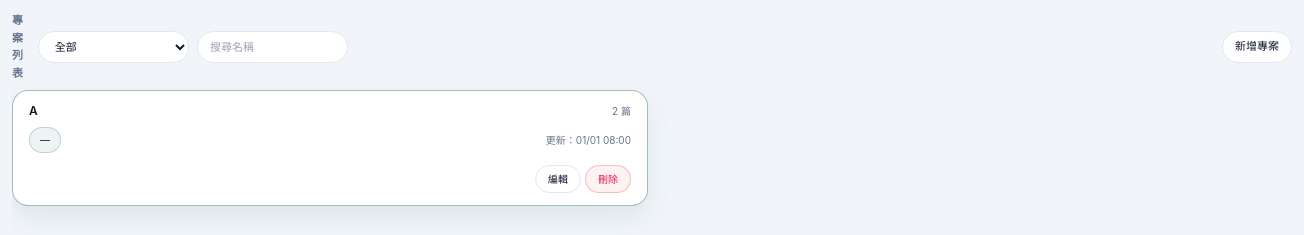
Test: ProjectList CRUD UI › 編輯專案保留選取並更新狀態顯示
The width and height of the screenshot is (1304, 235).
Expected: the text "A" is shown, x1=29 y1=103 x2=38 y2=119
Click the button "編輯" at (558, 179), box x1=535 y1=165 x2=581 y2=193
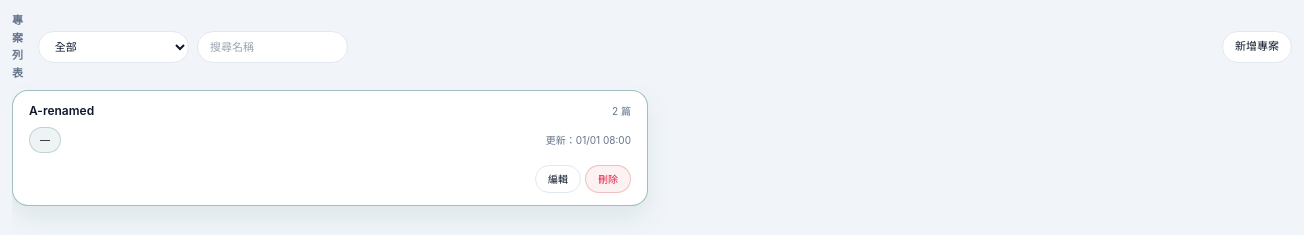
Now the text "A-renamed" is shown, box x1=29 y1=103 x2=94 y2=119
